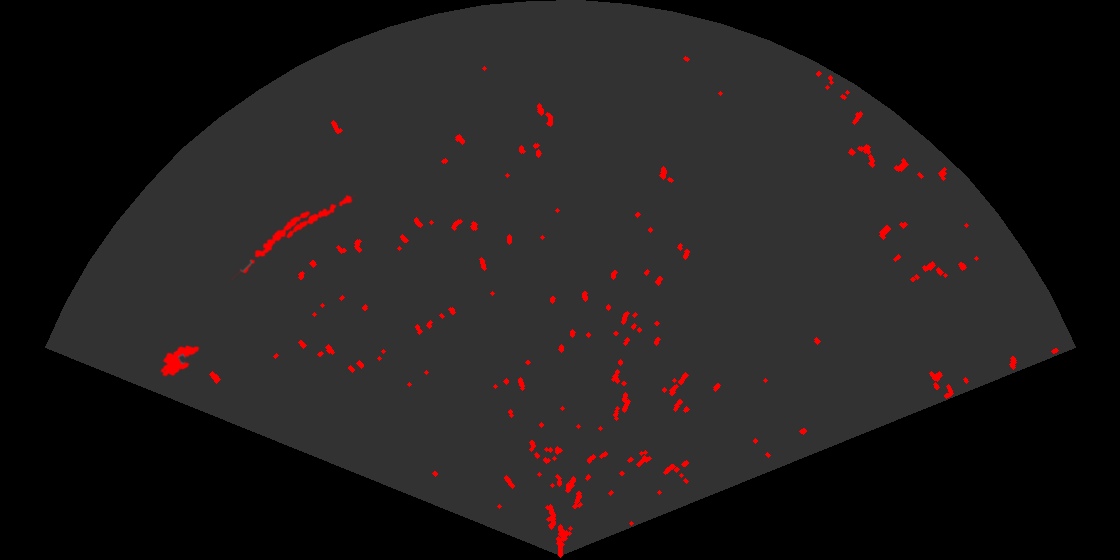AUV: (159, 344, 201, 378)
chain: (229, 209, 312, 280), (285, 193, 356, 240)
